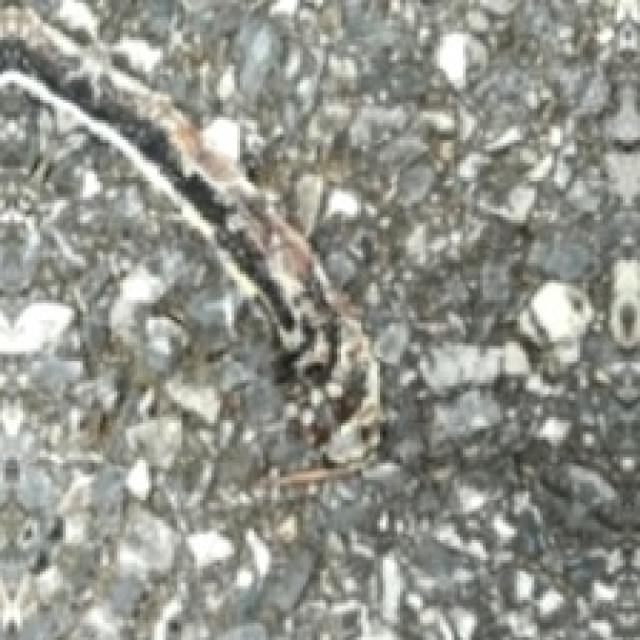king cobra: (0, 6, 377, 637), (0, 6, 377, 463)
